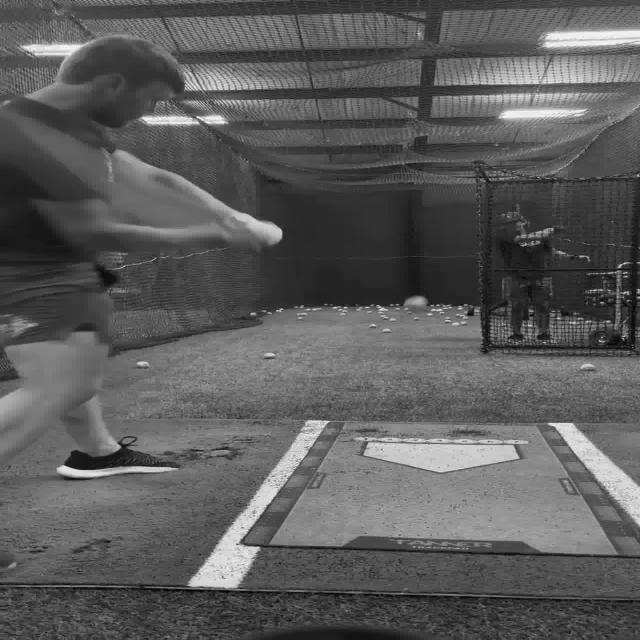base: (365, 440, 519, 469)
baseball: (403, 295, 428, 306), (579, 363, 595, 371), (136, 361, 150, 369), (263, 352, 275, 359), (381, 328, 391, 332)
bat: (238, 223, 282, 244)
shoe: (56, 437, 180, 479), (536, 332, 556, 344), (505, 333, 524, 344)
